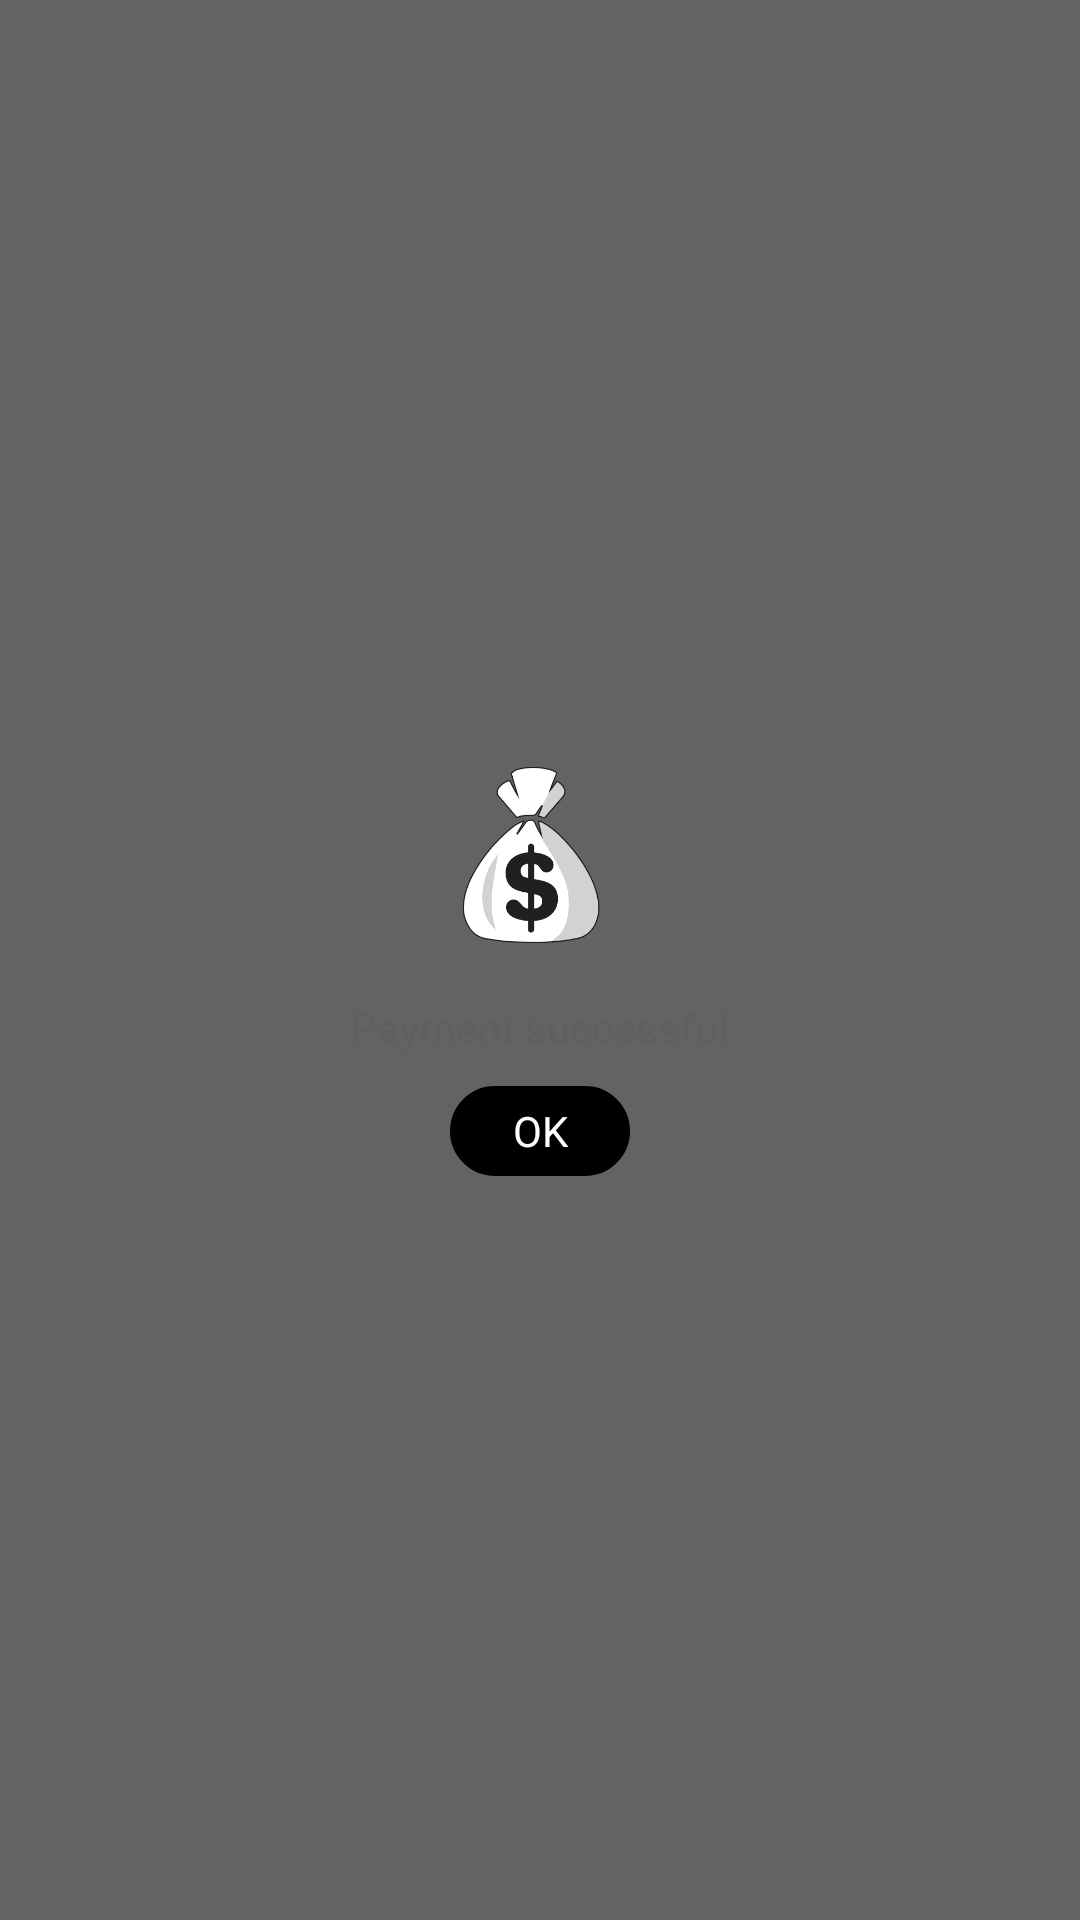

Named icons in this screenshot (1080×1920) and their bounding boxes, (x1, y1, x2, y2):
money bag: (463, 767, 600, 943)
